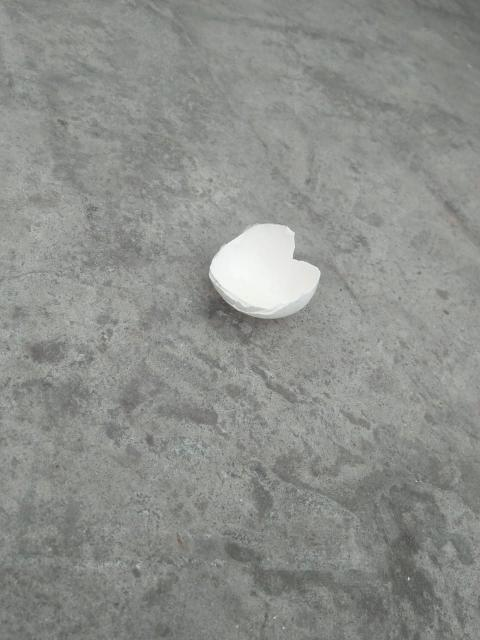Roto: (208, 221, 321, 320)
